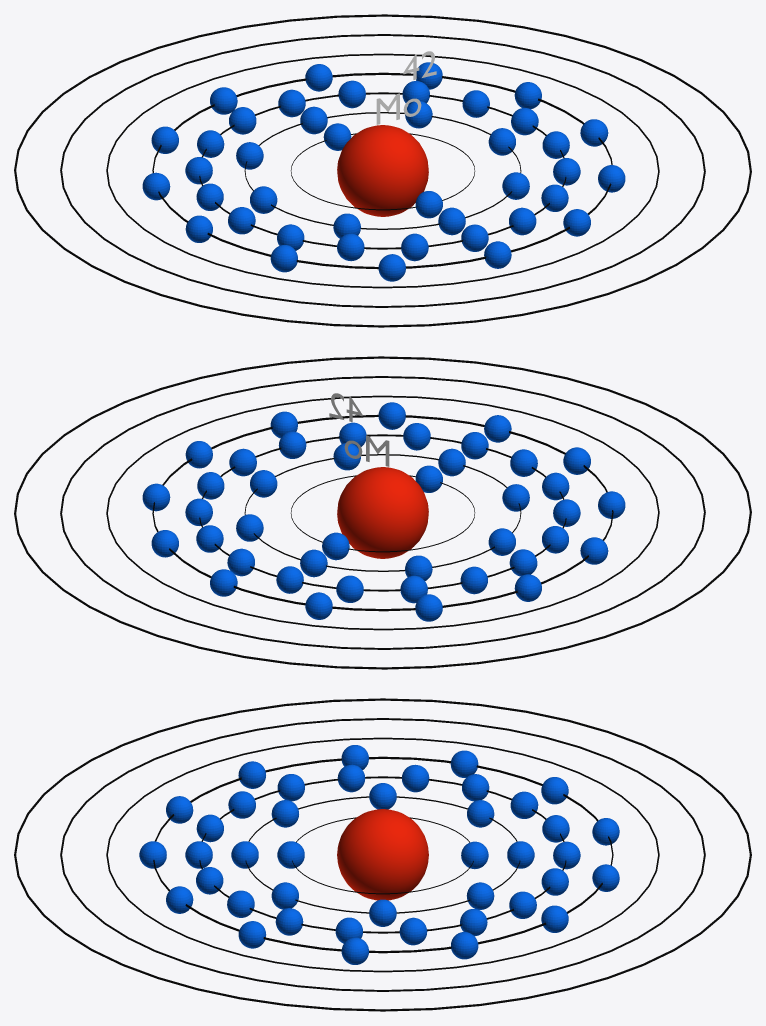
3 renders of one model, top to bottom at view 1: azimuth 30°, elevation 25°; view 2: azimuth 150°, elevation 25°; view 3: azimuth 270°, elevation 25°, orthographic.
Parts seen in each view (by area): view 1: Mo3, Mo4, Proton, n7, Mo2, n6, n5, n4, Mo1, n3, n2; view 2: Mo3, Mo4, Proton, n7, Mo2, n6, n5, n4, Mo1, n3, n2; view 3: Mo3, Mo4, Proton, Mo2, n7, n6, n5, n4, Mo1, n3, n2, n1.
Boxes of the visible parts, left/top/right/bottom form: Mo3: left=185, top=80, right=580, bottom=261; Mo4: left=142, top=62, right=625, bottom=281; Proton: left=337, top=125, right=428, bottom=216; n7: left=14, top=14, right=751, bottom=327; Mo2: left=236, top=101, right=529, bottom=238; n6: left=60, top=34, right=705, bottom=307; n5: left=106, top=53, right=659, bottom=288; n4: left=152, top=72, right=612, bottom=269; Mo1: left=323, top=123, right=442, bottom=218; n3: left=199, top=92, right=566, bottom=249; n2: left=244, top=112, right=521, bottom=229; Mo3: left=185, top=422, right=580, bottom=603; Mo4: left=142, top=402, right=625, bottom=621; Proton: left=337, top=467, right=428, bottom=558; n7: left=14, top=356, right=751, bottom=669; Mo2: left=236, top=443, right=529, bottom=580; n6: left=60, top=376, right=705, bottom=649; n5: left=106, top=395, right=659, bottom=630; n4: left=152, top=414, right=613, bottom=611; Mo1: left=322, top=465, right=442, bottom=560; n3: left=199, top=434, right=566, bottom=591; n2: left=244, top=454, right=521, bottom=571; Mo3: left=185, top=764, right=580, bottom=945; Mo4: left=139, top=745, right=619, bottom=964; Proton: left=337, top=809, right=428, bottom=900; Mo2: left=231, top=783, right=534, bottom=926; n7: left=14, top=698, right=751, bottom=1011; n6: left=60, top=718, right=705, bottom=991; n5: left=106, top=737, right=659, bottom=972; n4: left=153, top=756, right=613, bottom=953; Mo1: left=277, top=841, right=488, bottom=869; n3: left=199, top=776, right=566, bottom=933; n2: left=245, top=796, right=520, bottom=913; n1: left=292, top=817, right=473, bottom=894.
Size of the model in its own units: 802 by 180 by 802.
